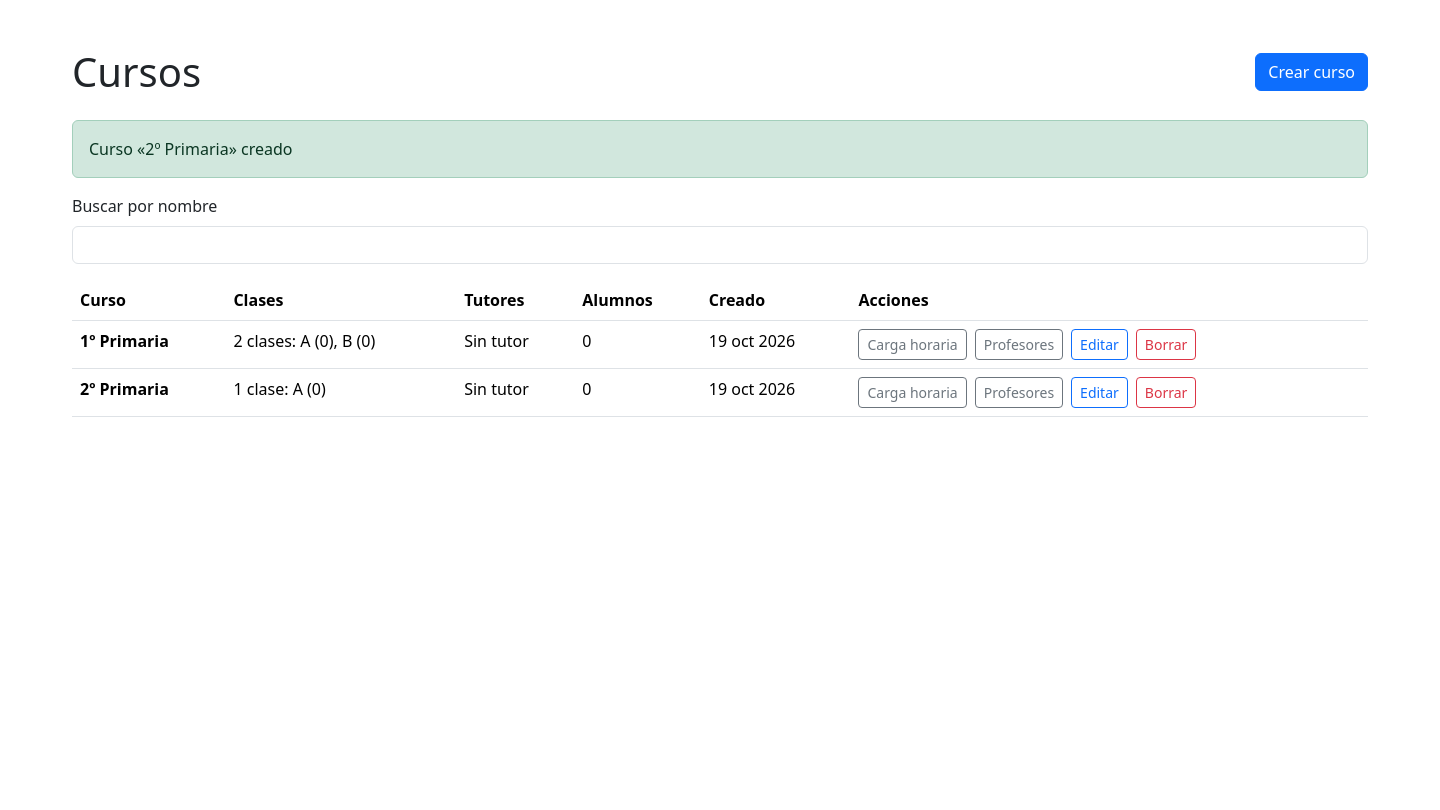
CoursesPage › on a wide screen › deleting a course › replaces the notice of a created course with the one of the deleted course
Expected: the text "Curso «2º Primaria» creado" is shown, left=72, top=120, right=1368, bottom=178
Click the button with aria-label "Borrar 1º Primaria": (1166, 344) left=1136, top=329, right=1196, bottom=360
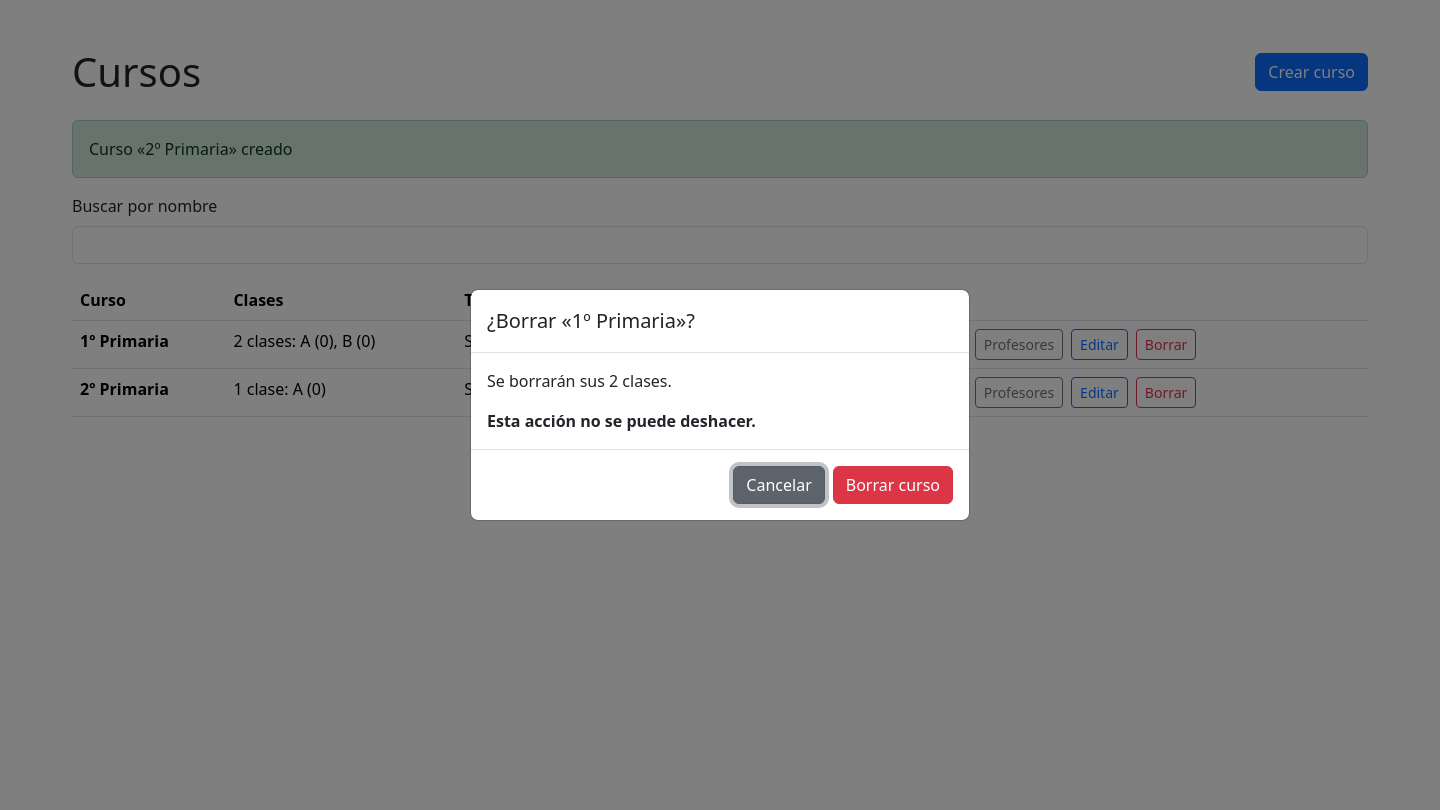
Click the button "Borrar curso": (893, 485) left=833, top=466, right=953, bottom=504
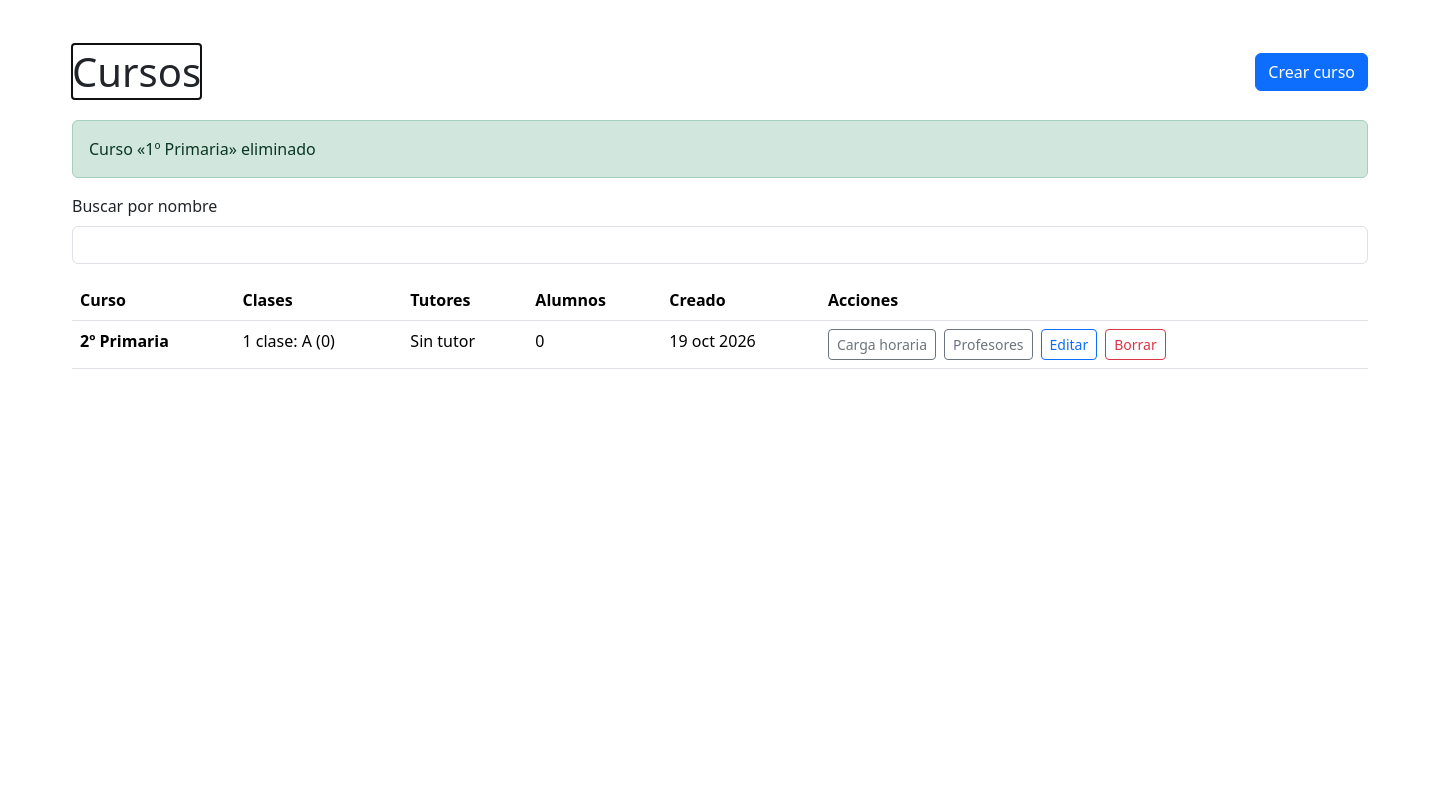
Result: the text "Curso «1º Primaria» eliminado" is shown at left=72, top=120, right=1368, bottom=178
